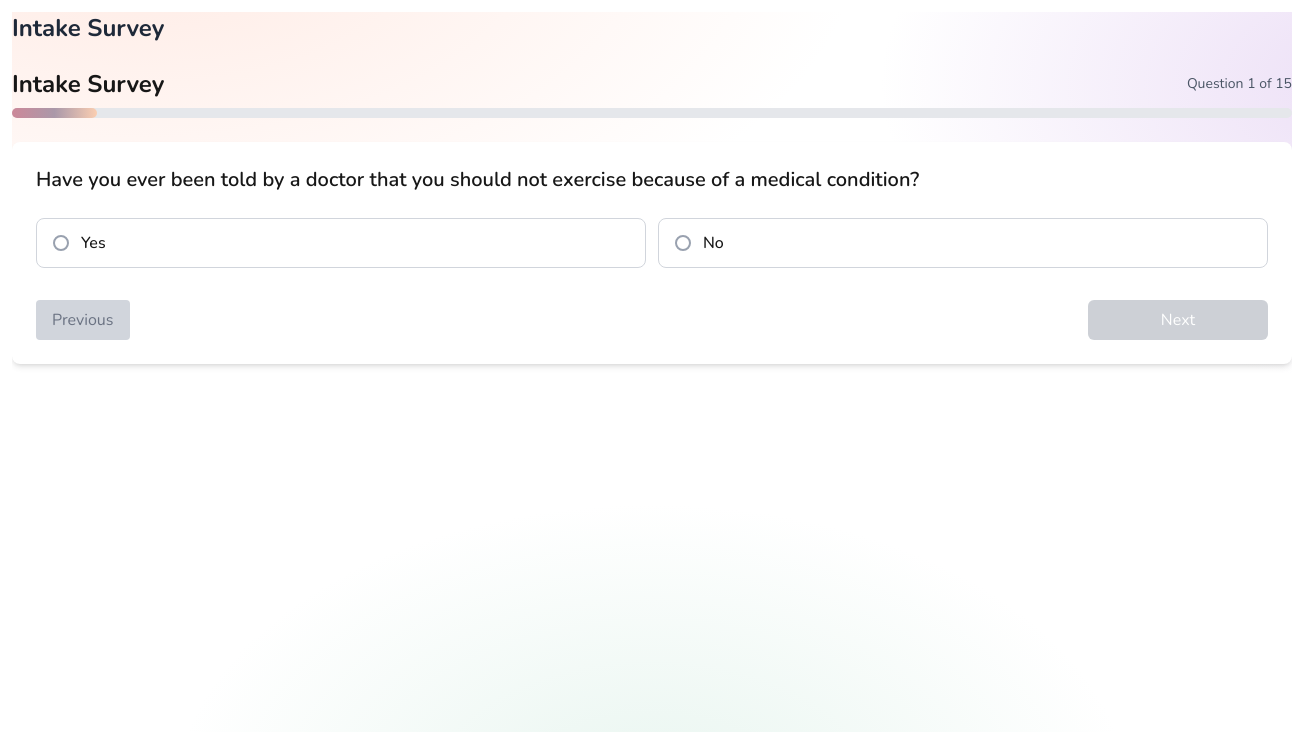
Scenario: IntakeSurvey - Simple Reliable Tests › handles conditional question correctly
Click the radio button labelled "Yes": (61, 243) [36, 218, 646, 268]
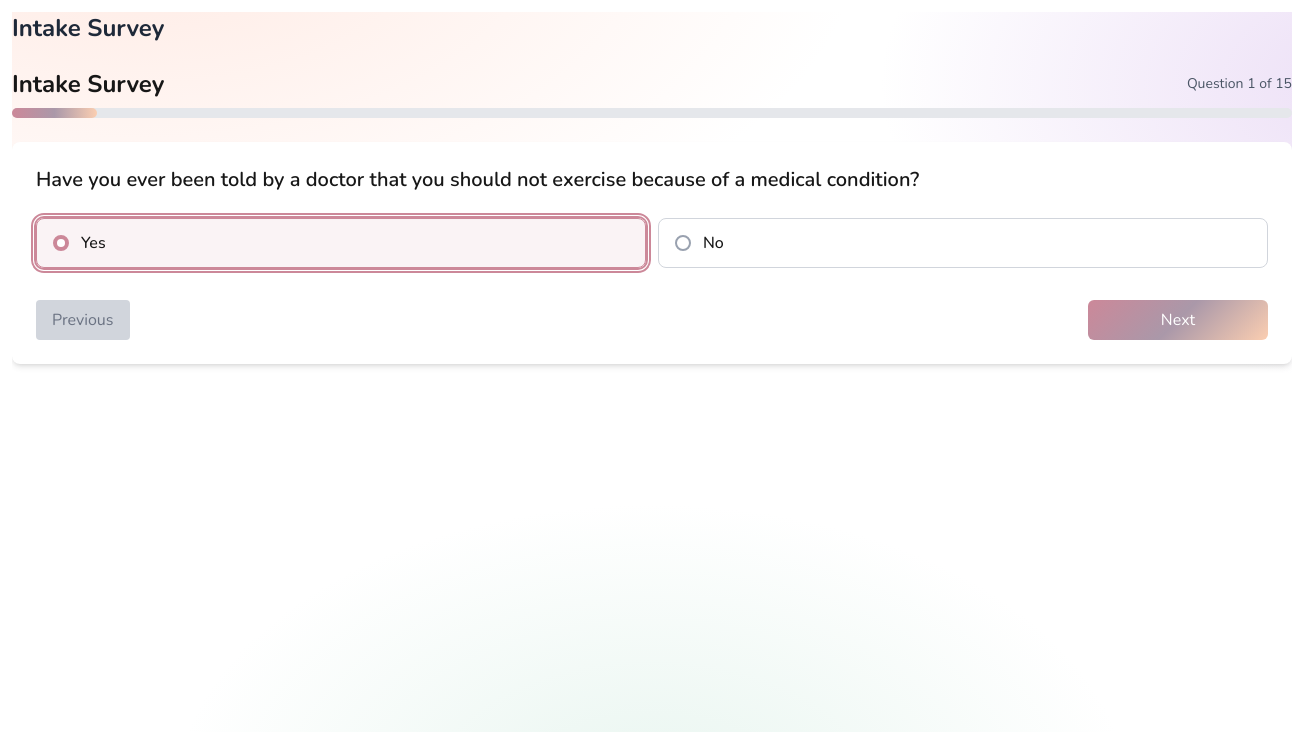
// Navigate to second question
Click the button "Next": (1178, 320) [1088, 300, 1268, 340]
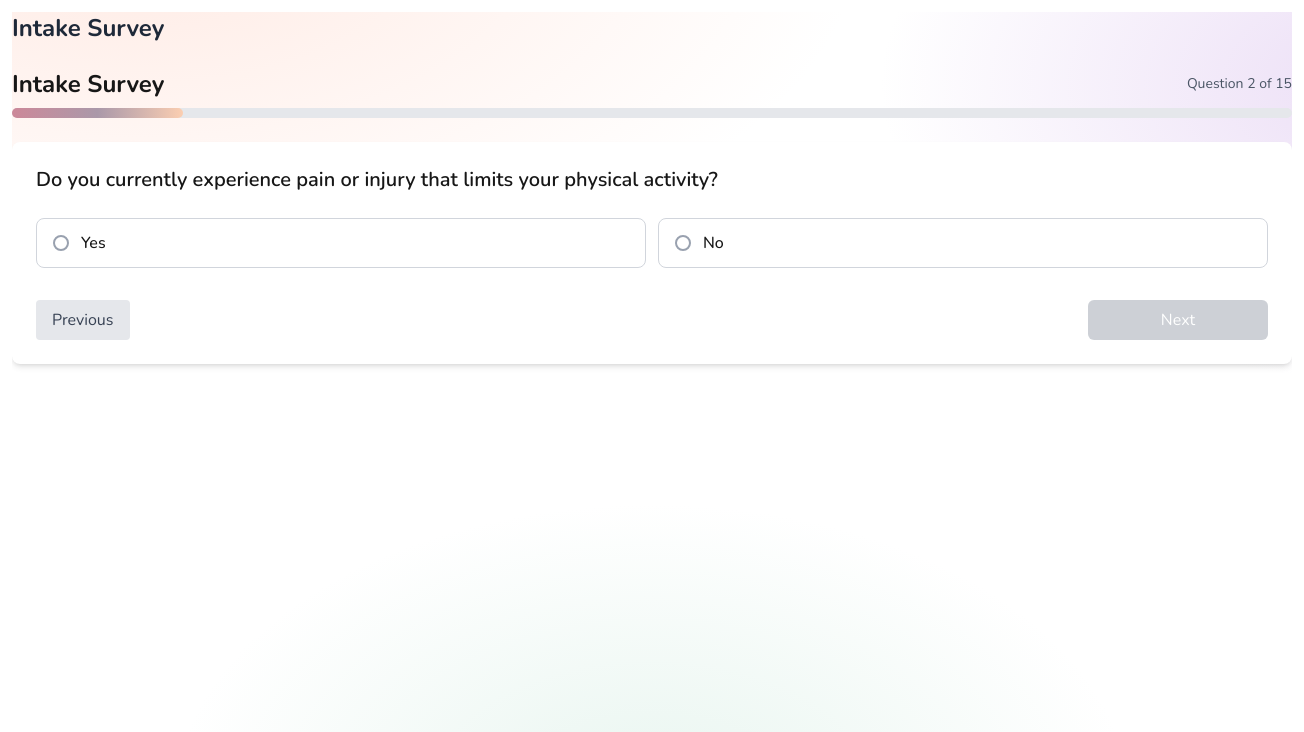
Click the radio button labelled "Yes": (61, 243) [36, 218, 646, 268]
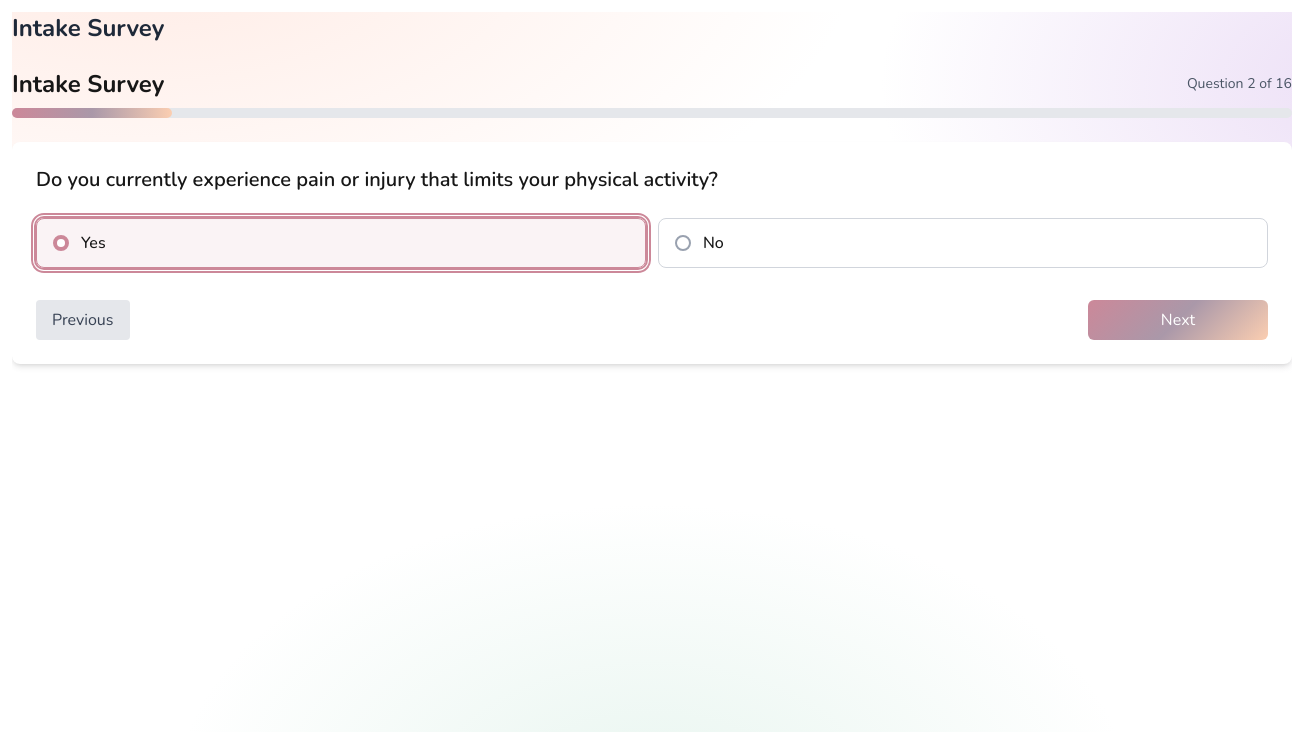
// Navigate to conditional question
Click the button "Next": (1178, 320) [1088, 300, 1268, 340]
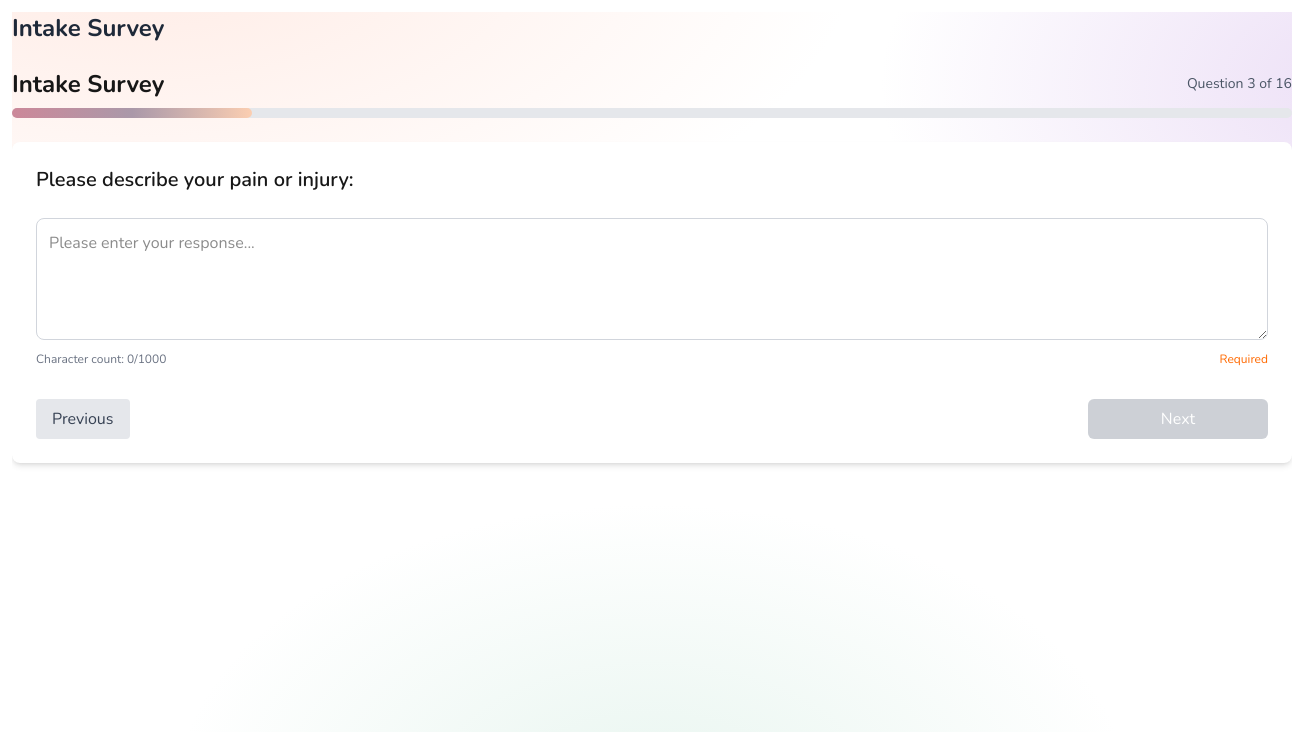
expect the heading "Please describe your pain or injury:" is shown: met, box [36, 166, 354, 193]
